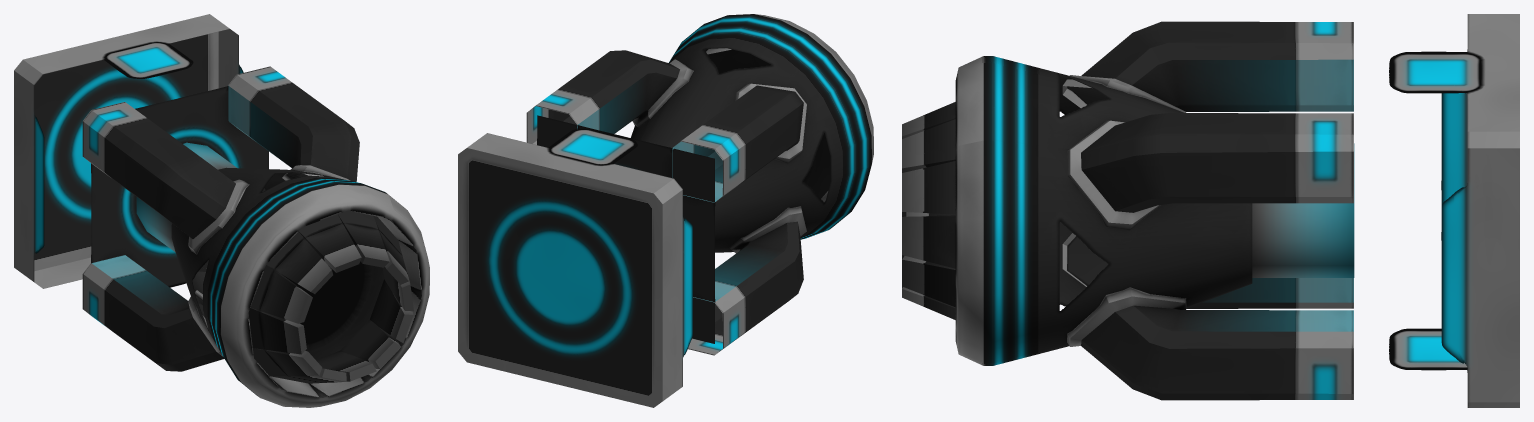
Rendered from obj_interactive_thruster_05_pose1.fbx.
The picture shows the model from 3 angles, left to right: view 1: azimuth 30°, elevation 25°; view 2: azimuth 150°, elevation 25°; view 3: azimuth 270°, elevation 25°; orthographic projection. The views are drawn at different scales.
Visible parts, largest first — view 1: obj_interactive_thruster_05_pose1; view 2: obj_interactive_thruster_05_pose1; view 3: obj_interactive_thruster_05_pose1.
Boxes of the visible parts, x1,y1,x2,y2 form: obj_interactive_thruster_05_pose1: [14, 14, 429, 407]; obj_interactive_thruster_05_pose1: [458, 14, 873, 407]; obj_interactive_thruster_05_pose1: [902, 14, 1519, 407].
Size of the model in its own units: 2.03 by 2.03 by 4.06.
